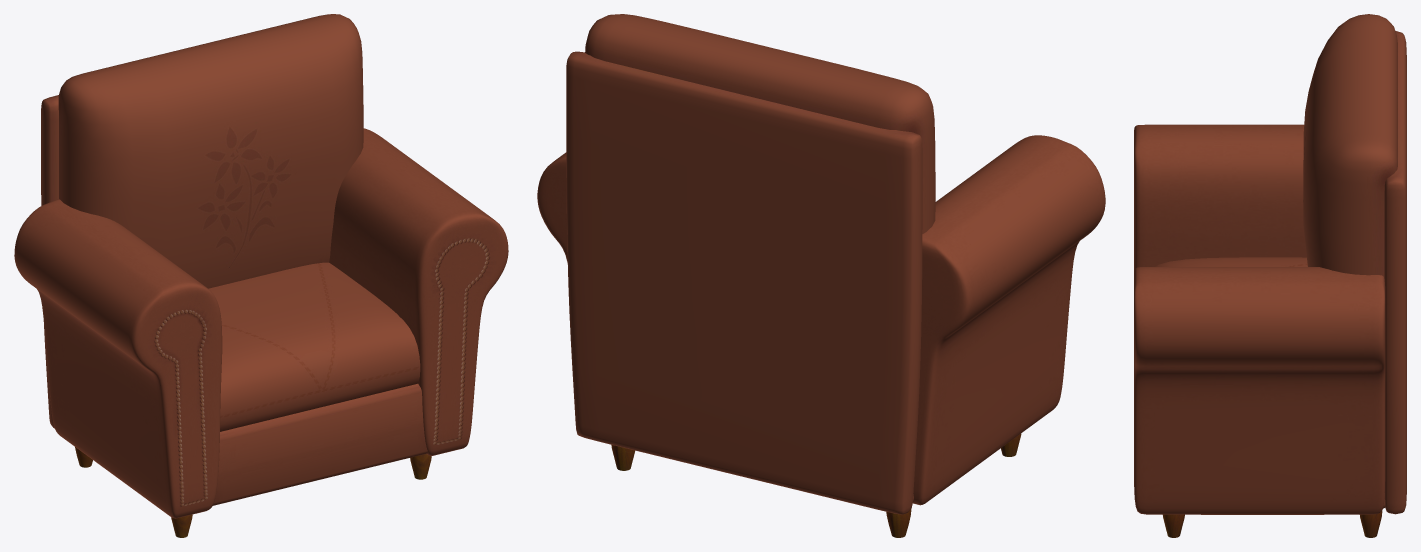
File: armchair3.fbx
3 views of the same model, side by side, from view 1: azimuth 30°, elevation 25°; view 2: azimuth 150°, elevation 25°; view 3: azimuth 270°, elevation 25° (orthographic). The views are drawn at different scales.
Parts seen in each view (by area): view 1: Sofa_Base_Mesh:sofa_2, Sofa_Base_Mesh:sofa_1, Sofa_Base_Mesh:sofa_3, Sofa_Base_Mesh:sofa_4; view 2: Sofa_Base_Mesh:sofa_1, Sofa_Base_Mesh:sofa_2, Sofa_Base_Mesh:sofa_4; view 3: Sofa_Base_Mesh:sofa_2, Sofa_Base_Mesh:sofa_1, Sofa_Base_Mesh:sofa_3, Sofa_Base_Mesh:sofa_4.
Part boxes in pixels (x1=…): Sofa_Base_Mesh:sofa_2: x1=14, y1=128, x2=508, y2=518; Sofa_Base_Mesh:sofa_1: x1=41, y1=14, x2=363, y2=428; Sofa_Base_Mesh:sofa_3: x1=208, y1=262, x2=427, y2=505; Sofa_Base_Mesh:sofa_4: x1=75, y1=447, x2=431, y2=537; Sofa_Base_Mesh:sofa_1: x1=566, y1=14, x2=935, y2=514; Sofa_Base_Mesh:sofa_2: x1=537, y1=135, x2=1105, y2=505; Sofa_Base_Mesh:sofa_4: x1=611, y1=433, x2=1021, y2=537; Sofa_Base_Mesh:sofa_2: x1=1134, y1=124, x2=1385, y2=514; Sofa_Base_Mesh:sofa_1: x1=1303, y1=14, x2=1406, y2=514; Sofa_Base_Mesh:sofa_3: x1=1155, y1=257, x2=1385, y2=514; Sofa_Base_Mesh:sofa_4: x1=1163, y1=509, x2=1382, y2=537.
Size of the model in its own units: 133 by 131 by 81.73.
Materials: 4 (4 with a texture image).
